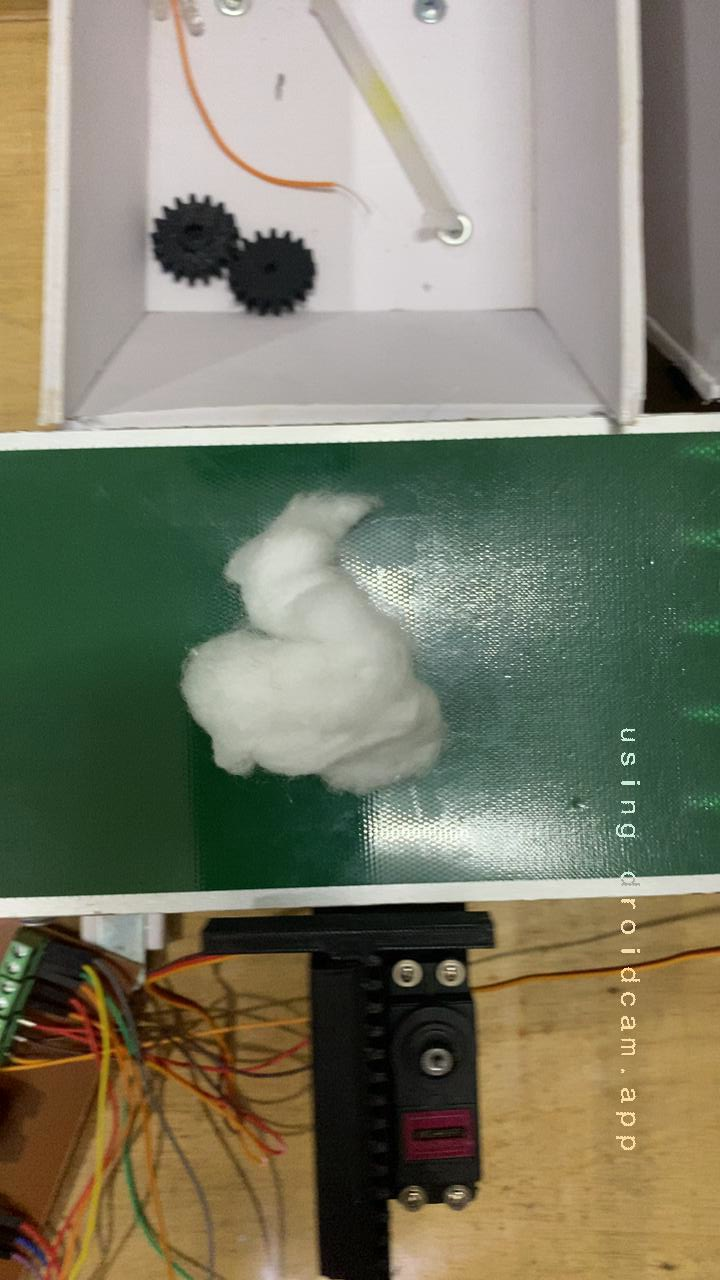cotton: (159, 468, 466, 808)
